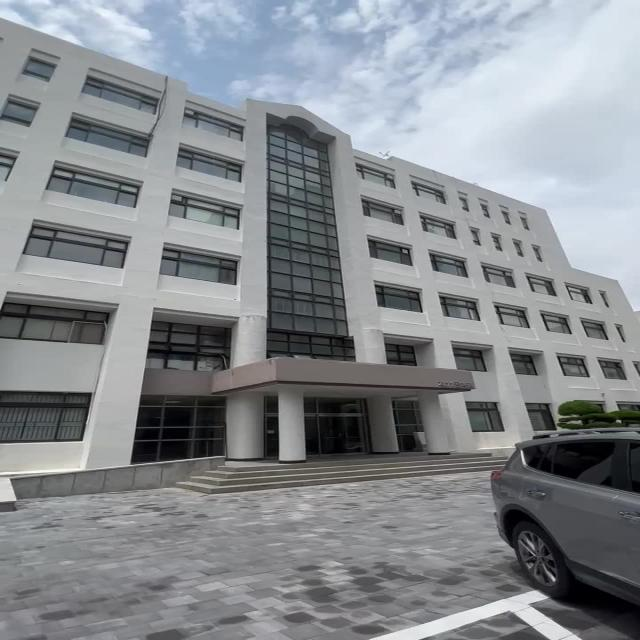building: (32, 44, 517, 450)
